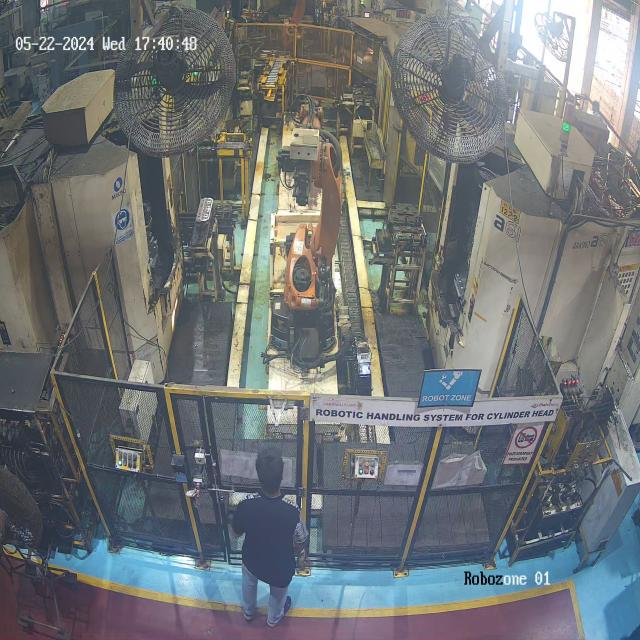person: (227, 432, 314, 640)
